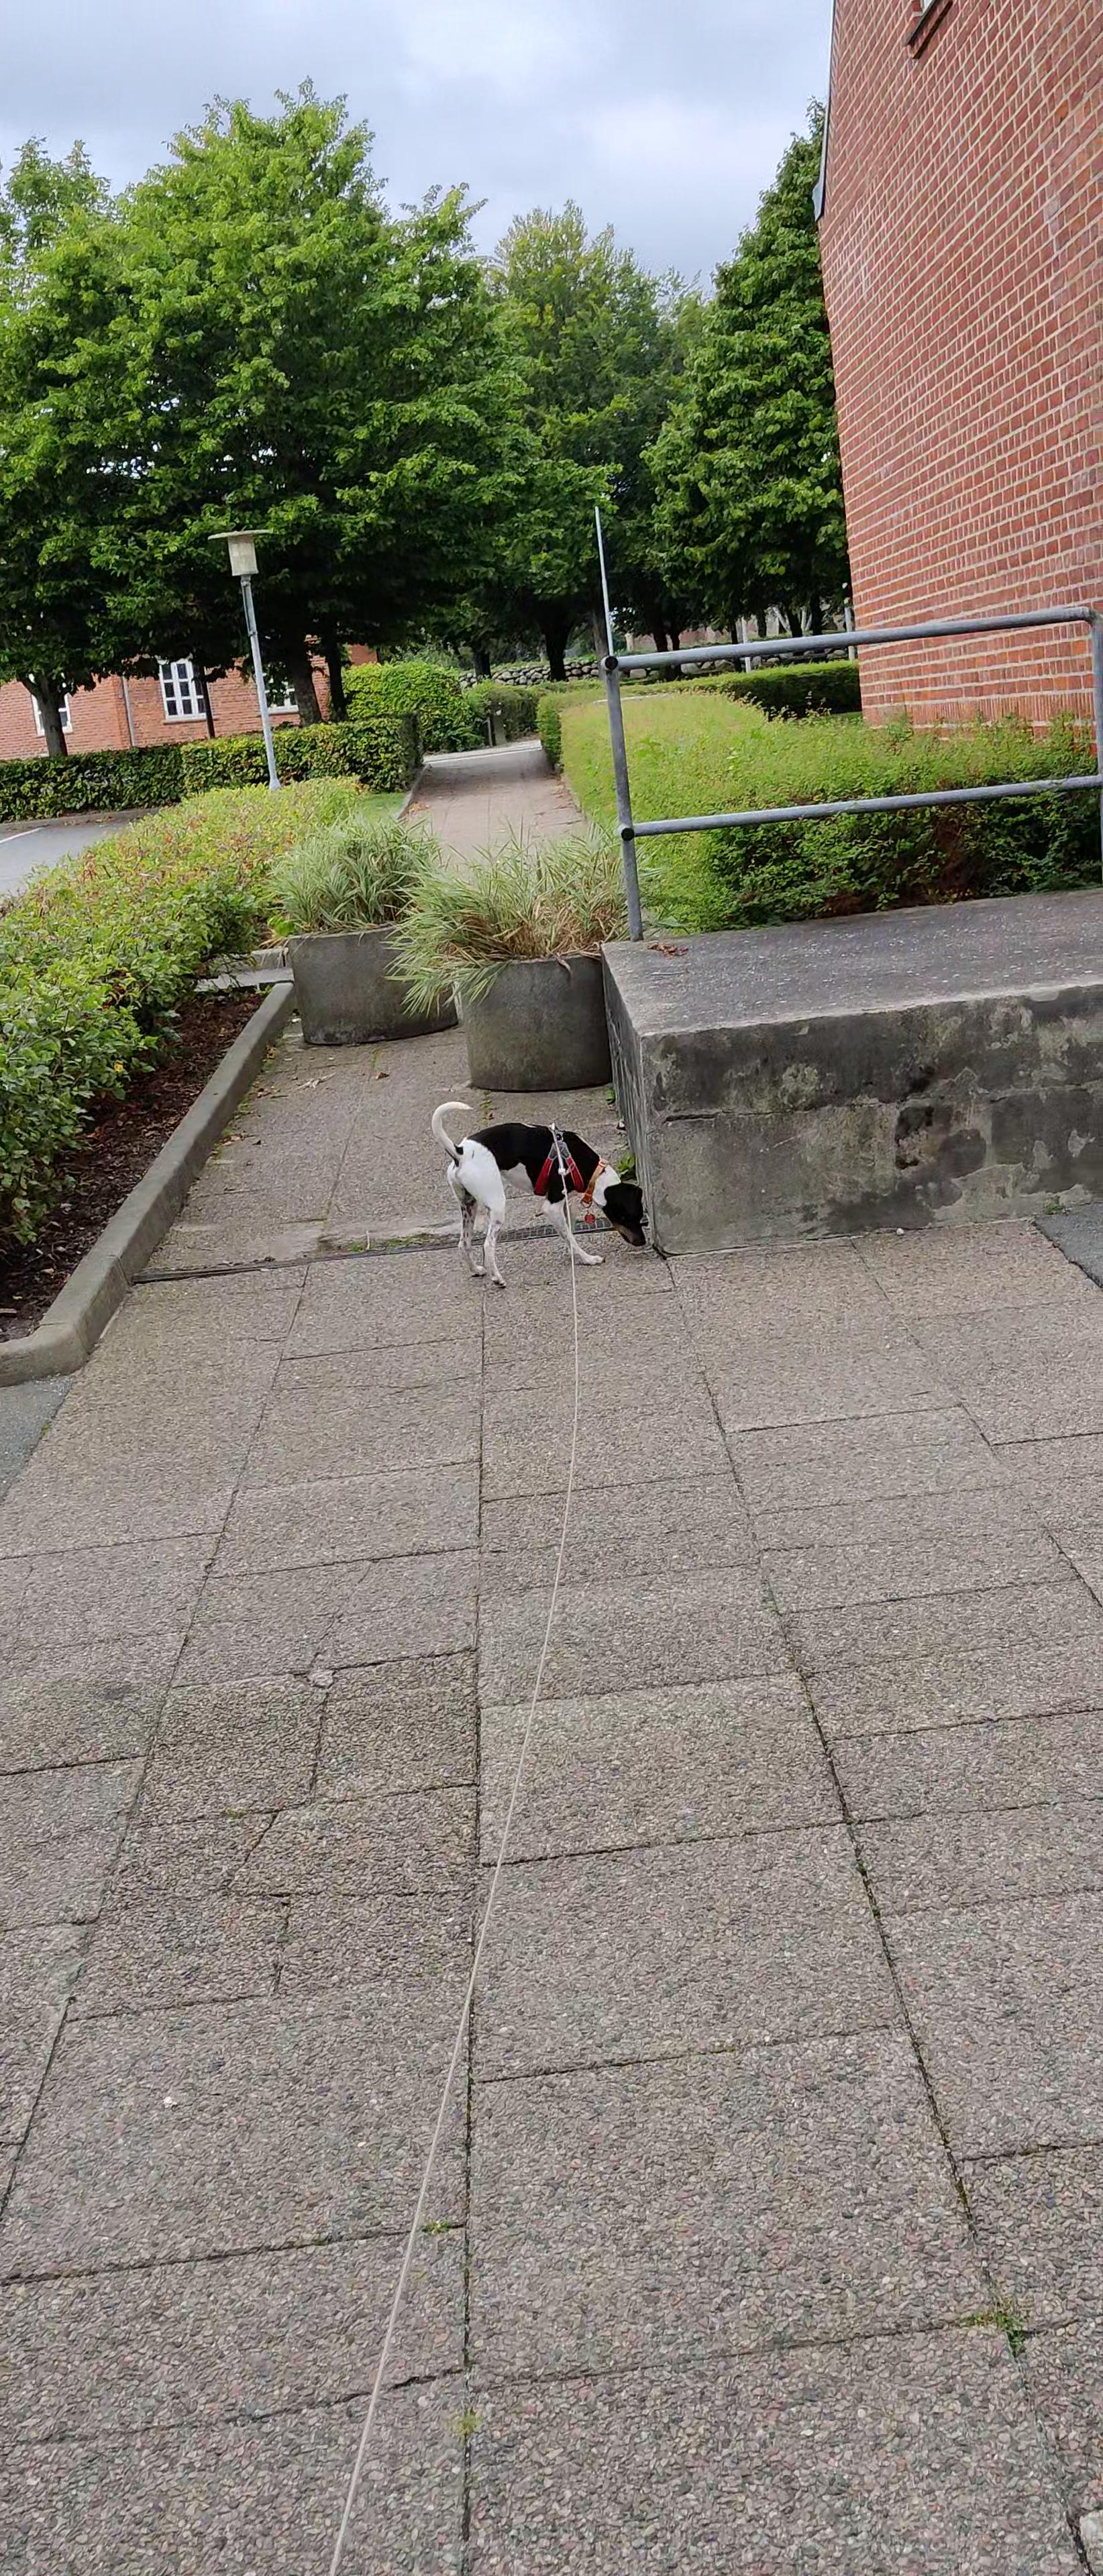Dog: (426, 1096, 654, 1288)
